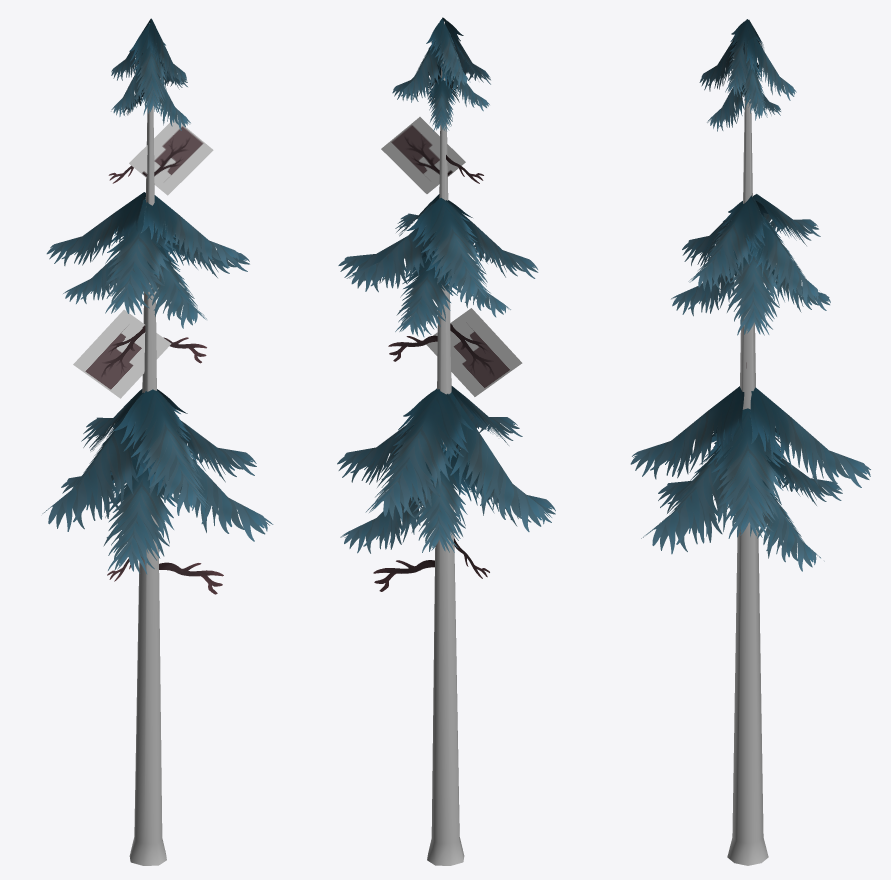
The model's file is Arbol_3_final.fbx.
The picture shows the model from 3 angles, left to right: view 1: azimuth 30°, elevation 25°; view 2: azimuth 150°, elevation 25°; view 3: azimuth 270°, elevation 25°; orthographic projection.
Parts seen in each view (by area): view 1: Hoja_arbol_3, Arbol_3_low, Rama_B_arbol_3, Rama_A_arbol_3; view 2: Hoja_arbol_3, Arbol_3_low, Rama_B_arbol_3, Rama_A_arbol_3; view 3: Hoja_arbol_3, Arbol_3_low.
Boxes of the visible parts, <box> form: Hoja_arbol_3: <box>42,18,273,574</box>; Arbol_3_low: <box>129,23,166,865</box>; Rama_B_arbol_3: <box>73,119,213,398</box>; Rama_A_arbol_3: <box>107,165,223,594</box>; Hoja_arbol_3: <box>337,17,555,553</box>; Arbol_3_low: <box>427,21,464,865</box>; Rama_B_arbol_3: <box>381,117,522,396</box>; Rama_A_arbol_3: <box>373,155,489,591</box>; Hoja_arbol_3: <box>630,19,870,571</box>; Arbol_3_low: <box>727,97,768,865</box>.
Bounding box in the file's own units: 3.77 × 13.53 × 4.02.
